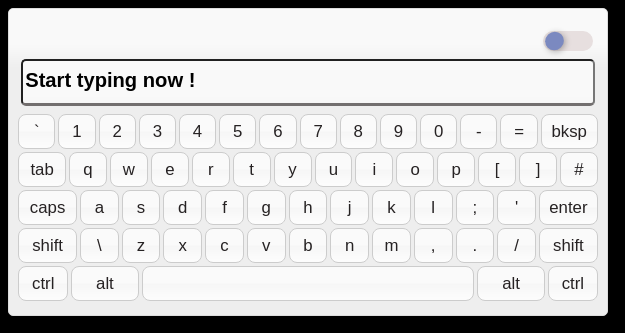
Test case: Keyboard › inserts spaces for tab when disableTab is false
What coordinates should you click on to do the following:
click the button "tab"
I would click on:
 (42, 170)
Its box is [18, 152, 66, 187].
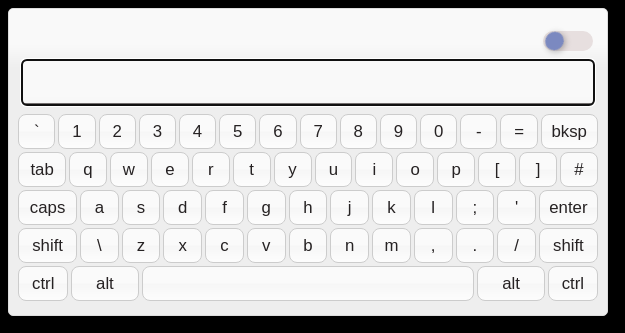
Expected: the field with class "keyboard-input" holds "  ", [21, 59, 595, 106]
